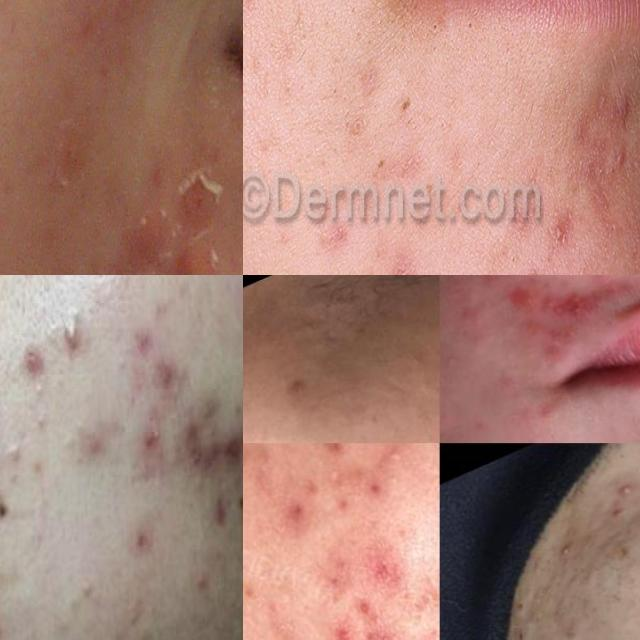acne_scars: (182, 428, 243, 478)
comedone: (311, 444, 363, 505), (65, 574, 112, 611), (61, 409, 88, 457), (402, 343, 433, 378), (380, 443, 415, 473), (571, 624, 635, 640), (0, 434, 27, 468), (32, 375, 48, 412), (420, 429, 440, 443), (373, 614, 384, 626)
papule: (305, 535, 439, 640), (473, 275, 544, 324), (136, 405, 175, 461), (147, 346, 182, 396), (0, 570, 10, 604)
pustule: (54, 303, 90, 371), (602, 450, 640, 507)
sebo-crystan-conglo: (532, 275, 605, 334)
